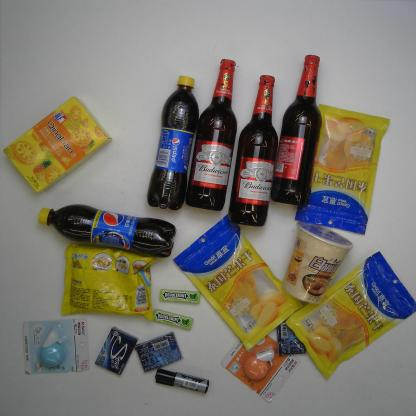Alcohol: (184, 57, 238, 212), (270, 53, 322, 209), (227, 74, 279, 228)
Dessert: (3, 96, 113, 194)
Dried Fruit: (172, 212, 304, 352), (284, 250, 416, 381), (294, 103, 391, 236)
Drink: (38, 204, 177, 258), (146, 75, 200, 211)
Gum: (94, 326, 139, 375), (135, 330, 183, 373), (276, 319, 306, 357), (153, 309, 194, 330), (159, 289, 201, 304)
Instant Noodles: (60, 243, 157, 321), (283, 220, 354, 306)
Stationery: (221, 334, 300, 402), (22, 318, 90, 375), (154, 368, 210, 394)
